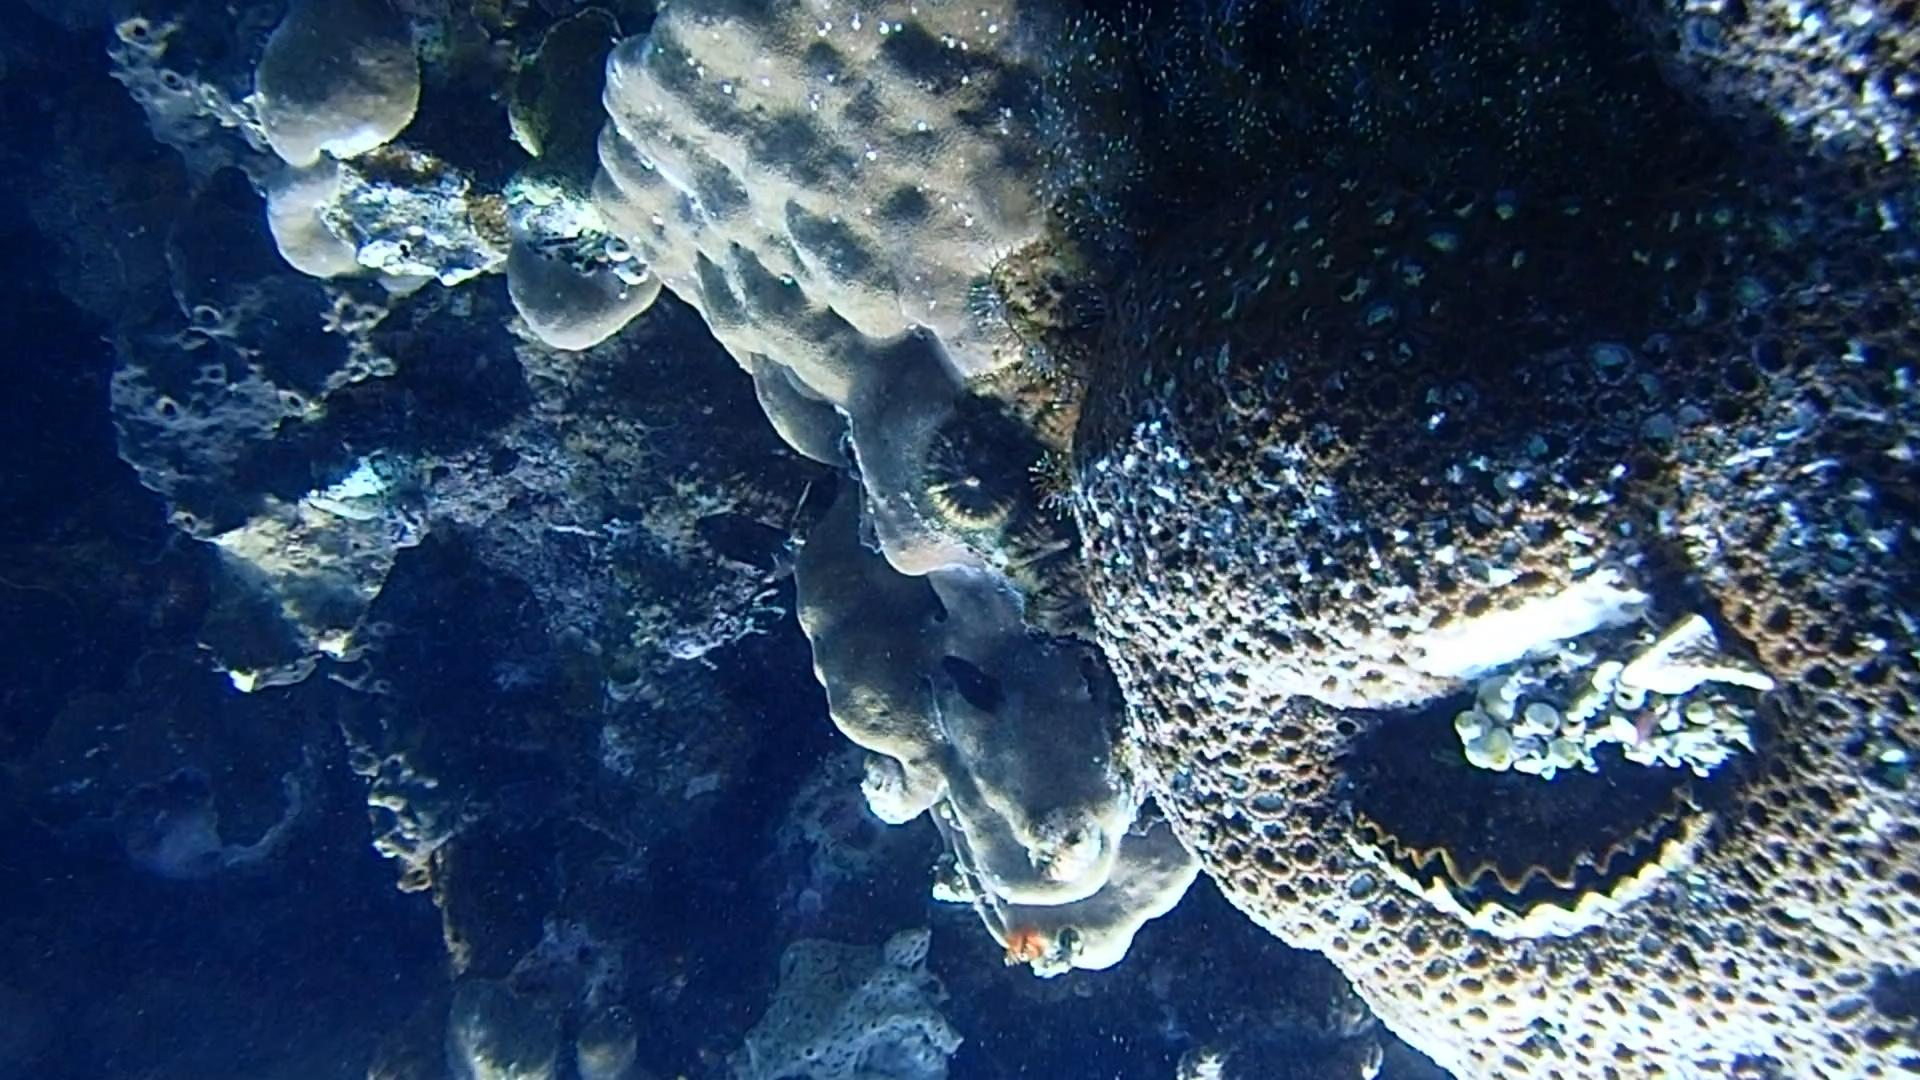Dark Fish: (688, 502, 803, 587), (923, 641, 1019, 733)
